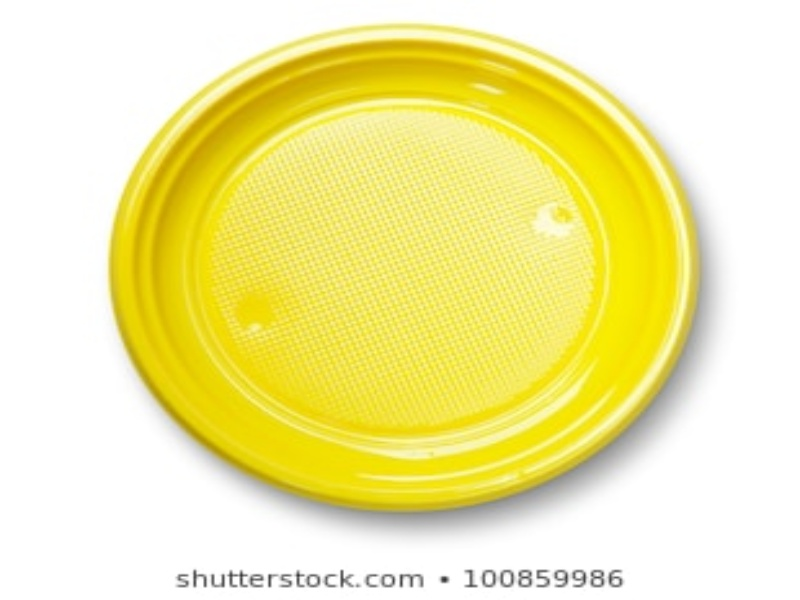plastic-plate: (109, 23, 698, 514)
